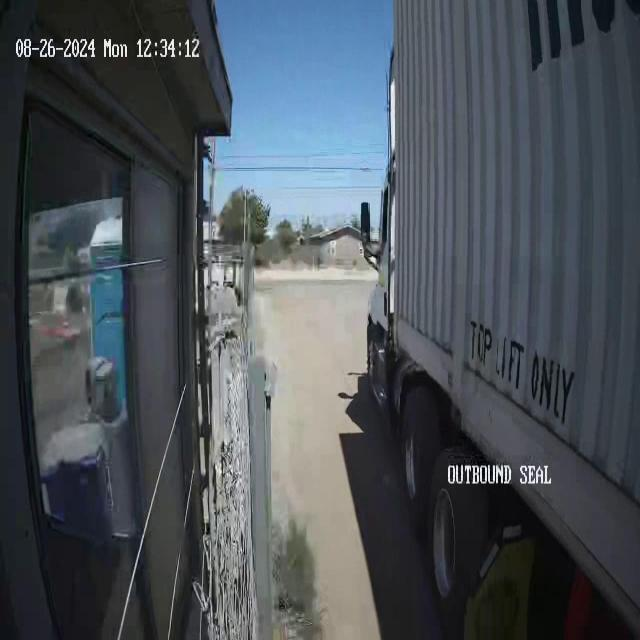TRUCK_OUT: (361, 1, 639, 635)
